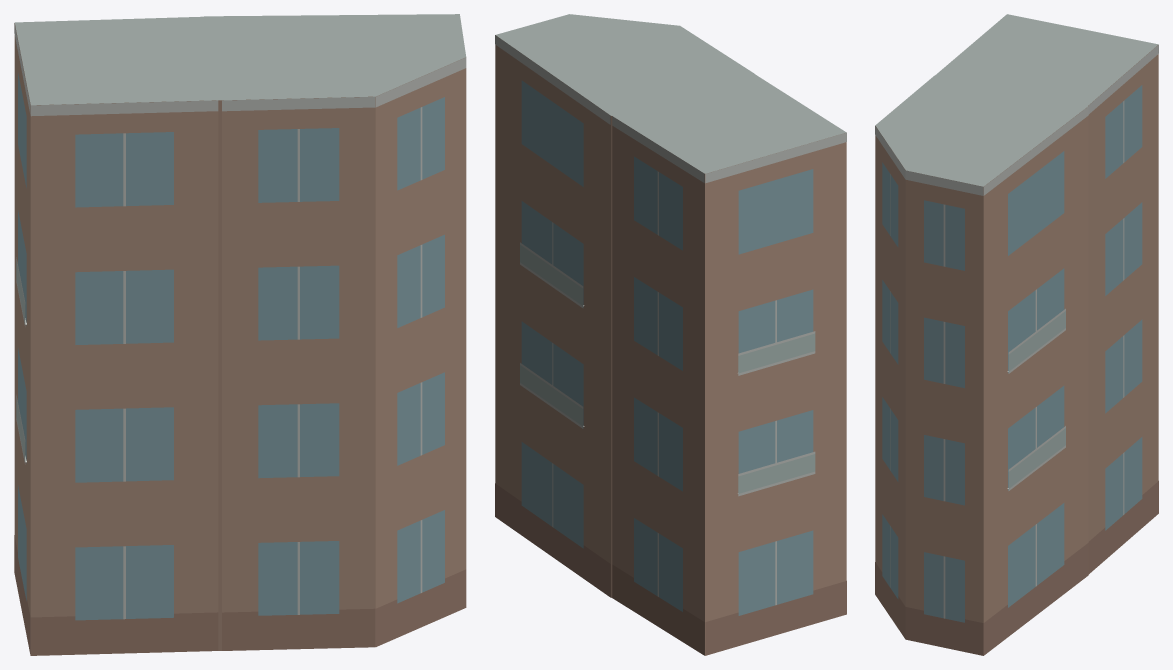
The model's file is survey-upis-32733042.glb.
3 renders of one model, left to right at view 1: azimuth 30°, elevation 25°; view 2: azimuth 150°, elevation 25°; view 3: azimuth 270°, elevation 25°, orthographic. The views are drawn at different scales.
Parts seen in each view (by area): view 1: survey-upis-32733042.tmp; view 2: survey-upis-32733042.tmp; view 3: survey-upis-32733042.tmp.
Boxes of the visible parts, x1,y1,x2,y2 form: survey-upis-32733042.tmp: (14, 14, 466, 655); survey-upis-32733042.tmp: (495, 14, 846, 655); survey-upis-32733042.tmp: (875, 14, 1158, 655).
Size of the model in its own units: 9.72 by 12.3 by 6.75.
